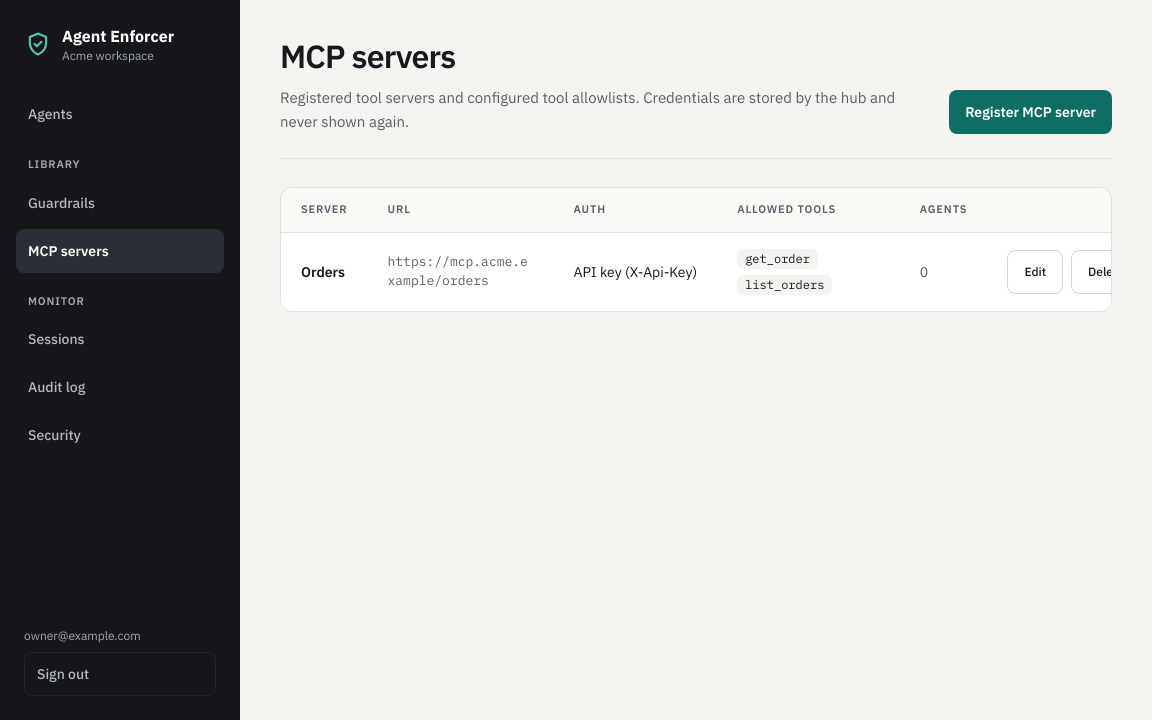
Test: MCP servers › deletes a server after confirmation
Expected: the element named "MCP servers table" is shown, [280,187,1112,312]
Click the button with aria-label "Delete Orders".
click(1106, 272)  # box [1071,250,1141,294]
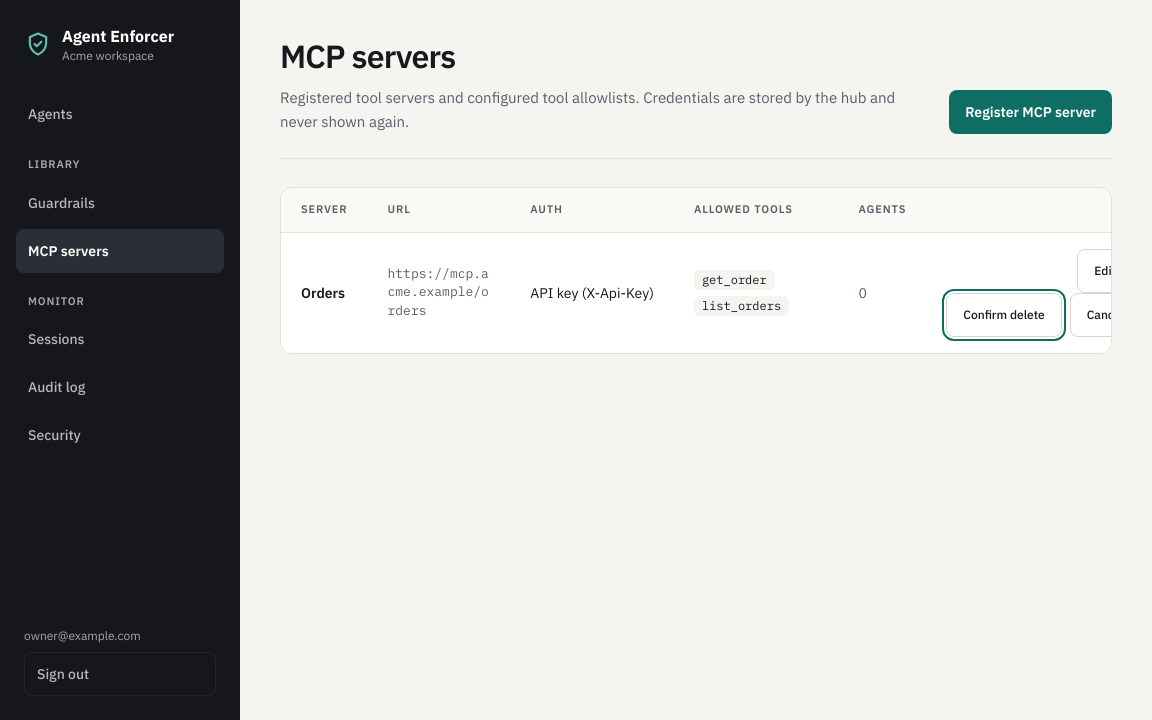
Click the button with aria-label "Confirm delete Orders".
click(1004, 315)  # box [946,293,1062,337]
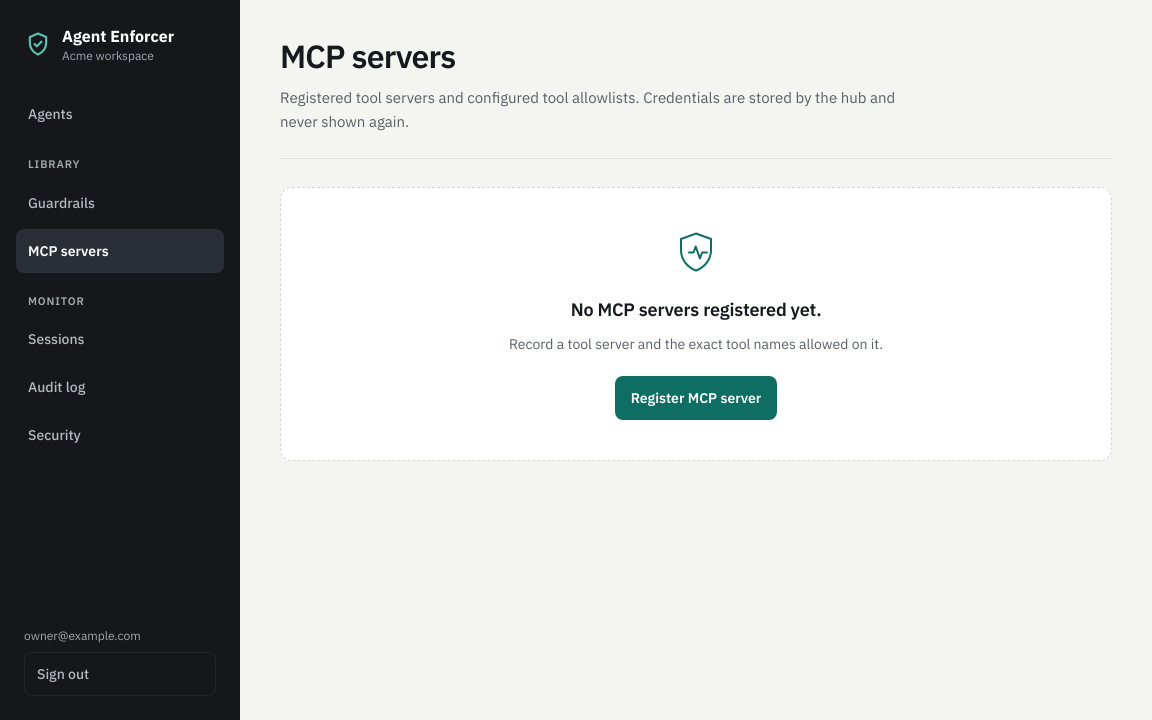
Expected: the heading "No MCP servers registered yet." is shown, [571,296,821,324]
